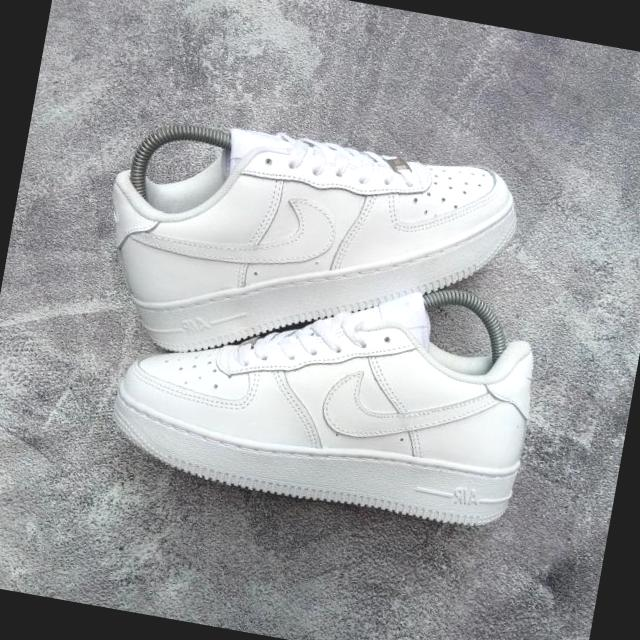nike_fake_airforce: (96, 240, 548, 546), (74, 107, 524, 410)
